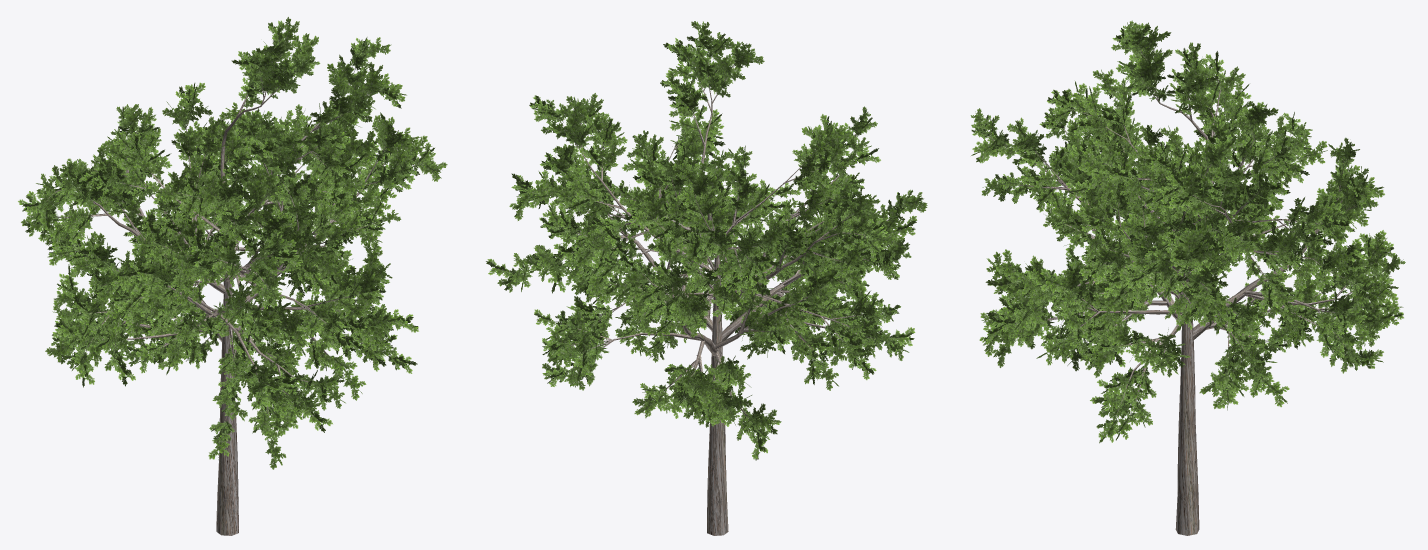
Rendered from OakMeadow.glb.
3 renders of one model, left to right at view 1: azimuth 30°, elevation 25°; view 2: azimuth 150°, elevation 25°; view 3: azimuth 270°, elevation 25°, orthographic. The views are drawn at different scales.
Parts seen in each view (by area): view 1: OakMeadow canopy, OakMeadow trunk; view 2: OakMeadow canopy, OakMeadow trunk; view 3: OakMeadow canopy, OakMeadow trunk.
Part boxes in pixels (x1,y1,x2,y2): OakMeadow canopy: (18,17,447,469); OakMeadow trunk: (47,54,412,535); OakMeadow canopy: (486,21,927,460); OakMeadow trunk: (529,62,900,535); OakMeadow canopy: (970,20,1405,443); OakMeadow trunk: (985,50,1384,535).
Size of the model in its own units: 10.81 by 13.2 by 10.11.
2 materials, 2 textured.
